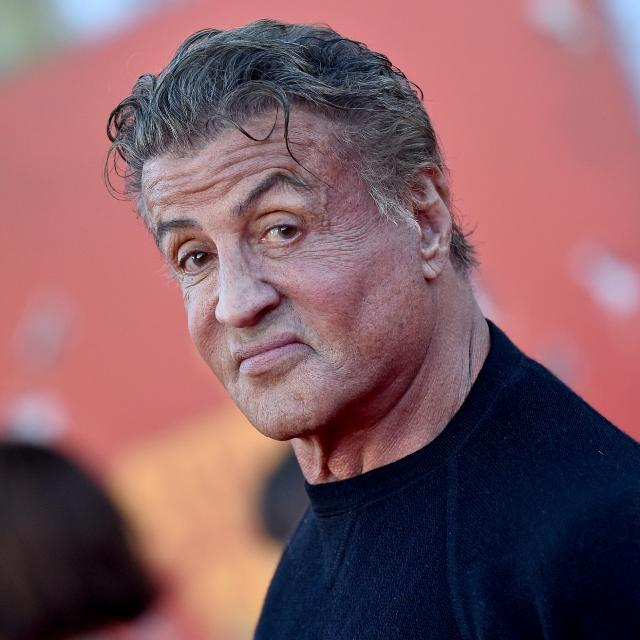crows_feet: (312, 224, 352, 258)
forehead: (229, 144, 291, 174), (174, 178, 230, 196)
